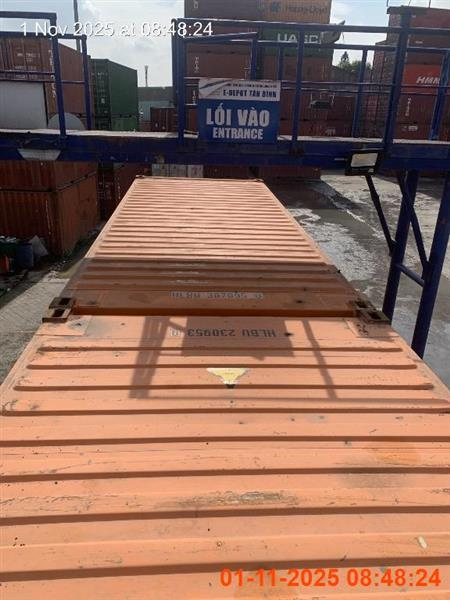broken: (0, 172, 449, 592)
